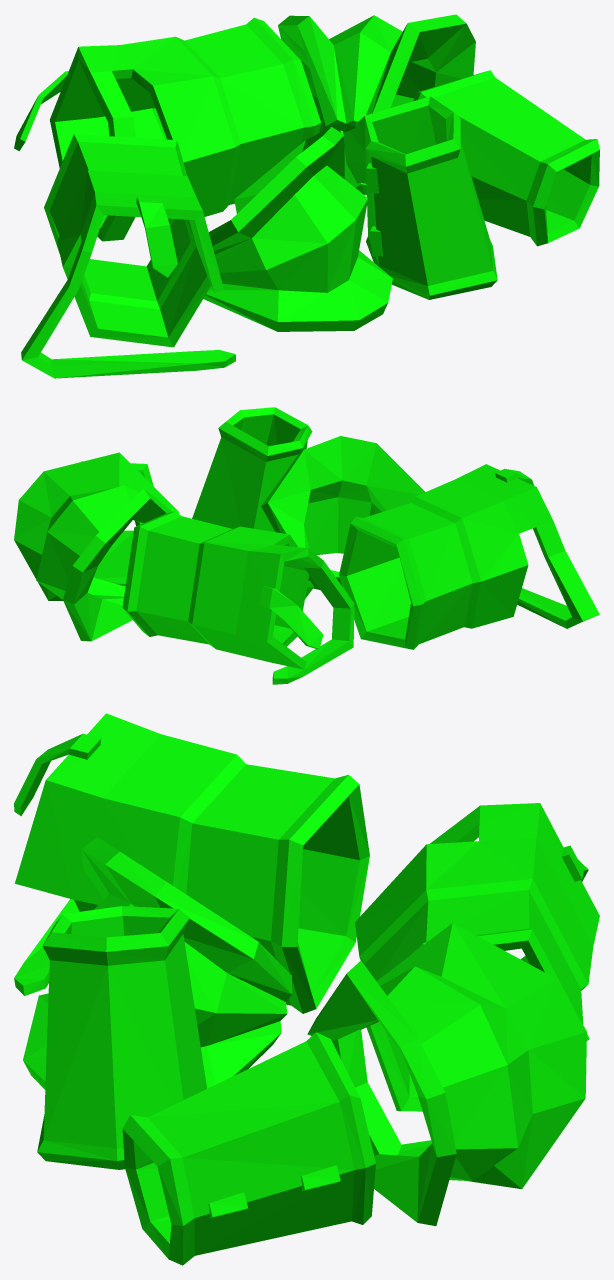
File: SM_Armor_Arm_B_Placed_Fantasy.fbx
The picture shows the model from 3 angles, top to bottom: view 1: azimuth 30°, elevation 25°; view 2: azimuth 150°, elevation 25°; view 3: azimuth 270°, elevation 25°; orthographic projection. The views are drawn at different scales.
Visible parts, largest first — view 1: armor-arm-b-placed-fantasy; view 2: armor-arm-b-placed-fantasy; view 3: armor-arm-b-placed-fantasy.
Boxes of the visible parts, box(x1,y1,x2,y2) form: armor-arm-b-placed-fantasy: box(14, 14, 599, 378); armor-arm-b-placed-fantasy: box(14, 407, 599, 684); armor-arm-b-placed-fantasy: box(14, 713, 599, 1265).
Bounding box in the file's own units: 0.6874 × 0.1973 × 0.4336.
